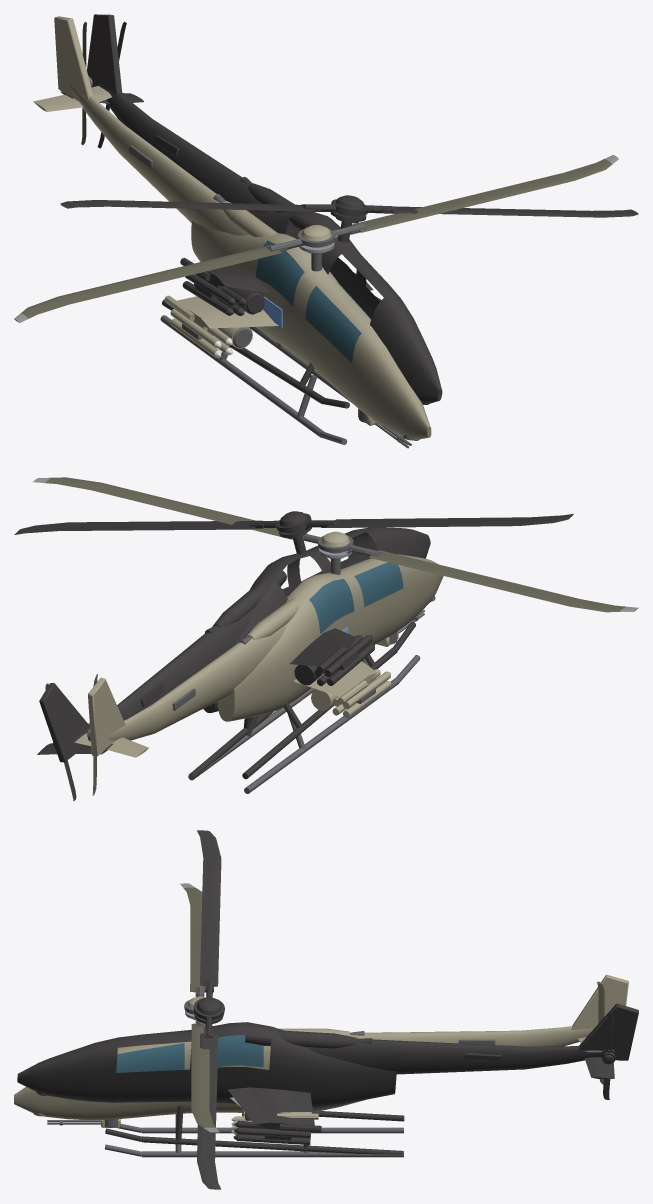
The model's file is gunship__ah_1f_cobra_z_10me.glb.
The picture shows the model from 3 angles, top to bottom: view 1: azimuth 30°, elevation 25°; view 2: azimuth 150°, elevation 25°; view 3: azimuth 270°, elevation 25°; orthographic projection. The views are drawn at different scales.
Visible parts, largest first — view 1: Fuselage_Mesh, Wreck, Rotor_Main_Mesh, Stub_Wings_Stores_Mesh, Landing_Gear_Mesh, Engines_Mesh; view 2: Wreck, Fuselage_Mesh, Rotor_Main_Mesh, Stub_Wings_Stores_Mesh, Landing_Gear_Mesh, Engines_Mesh; view 3: Wreck, Fuselage_Mesh, Rotor_Main_Mesh, Landing_Gear_Mesh.
Boxes of the visible parts, x1,y1,x2,y2 form: Fuselage_Mesh: (33, 16, 431, 440); Wreck: (60, 14, 638, 408); Rotor_Main_Mesh: (14, 154, 618, 322); Stub_Wings_Stores_Mesh: (164, 295, 278, 357); Landing_Gear_Mesh: (160, 315, 352, 444); Engines_Mesh: (213, 194, 277, 237); Wreck: (14, 511, 573, 801); Fuselage_Mesh: (74, 554, 443, 757); Rotor_Main_Mesh: (33, 477, 638, 612); Stub_Wings_Stores_Mesh: (294, 661, 390, 717); Landing_Gear_Mesh: (188, 655, 420, 793); Engines_Mesh: (238, 598, 299, 644); Wreck: (17, 830, 638, 1189); Fuselage_Mesh: (14, 975, 628, 1120); Rotor_Main_Mesh: (180, 883, 219, 1132); Landing_Gear_Mesh: (105, 1114, 403, 1157).
Size of what is drawn, in the model's own units: 13.81 by 5.37 by 14.23.
